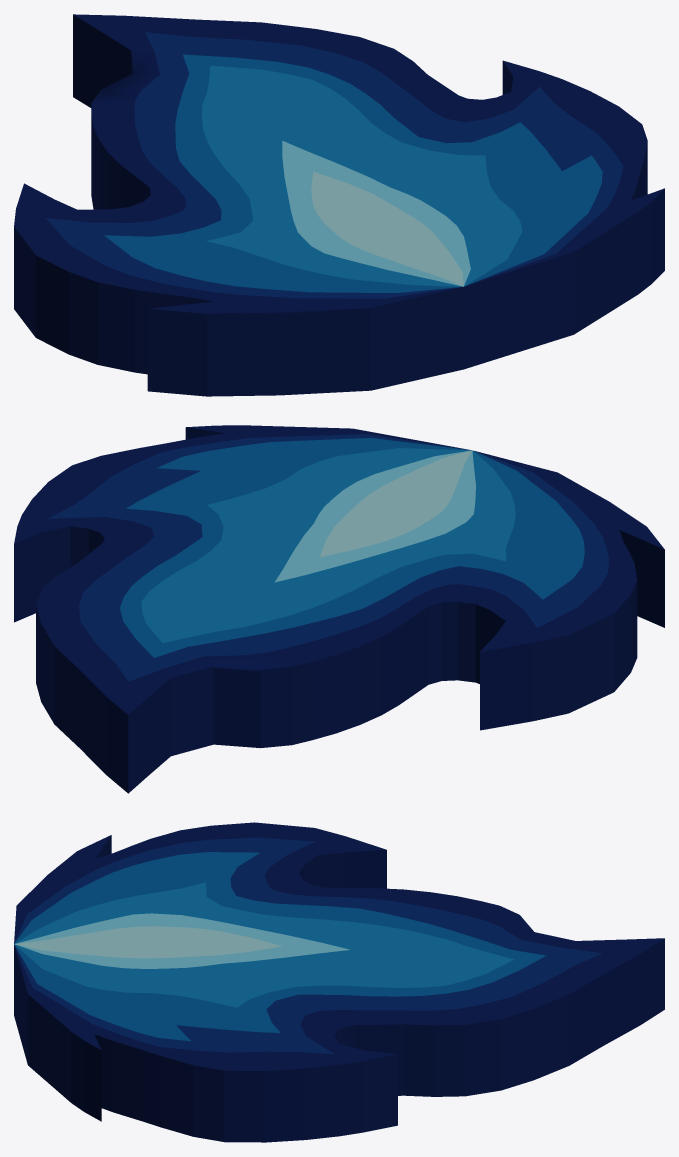
The model's file is BlueFire.FBX.
The picture shows the model from 3 angles, top to bottom: view 1: azimuth 30°, elevation 25°; view 2: azimuth 150°, elevation 25°; view 3: azimuth 270°, elevation 25°; orthographic projection. The views are drawn at different scales.
Visible parts, largest first — view 1: t002; view 2: t002; view 3: t002.
Boxes of the visible parts, x1,y1,x2,y2 form: t002: (14, 14, 664, 396); t002: (14, 425, 664, 793); t002: (14, 822, 664, 1142).
Size of the model in its own units: 280 by 37.57 by 310.
